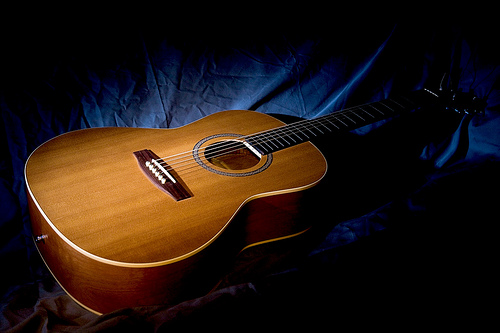guitar: (23, 84, 484, 319)
